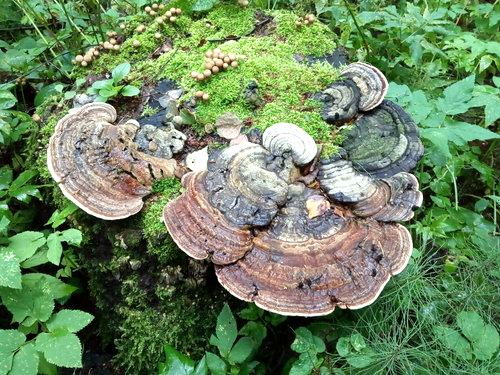Ganoderma - Fruit Body: (165, 119, 419, 317), (46, 100, 151, 219), (318, 56, 390, 115)
